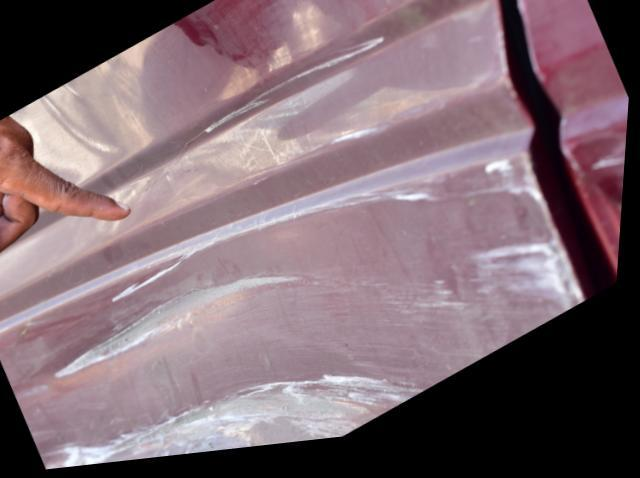dent: (0, 191, 564, 471), (144, 0, 417, 151), (579, 150, 629, 268)
